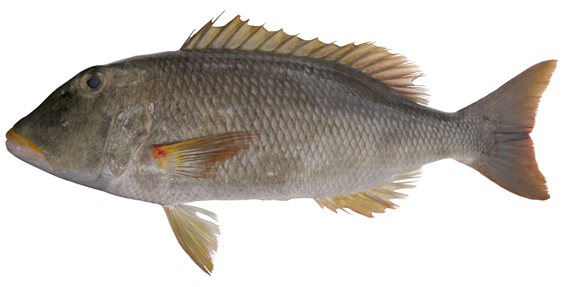fish: (5, 9, 558, 277)
